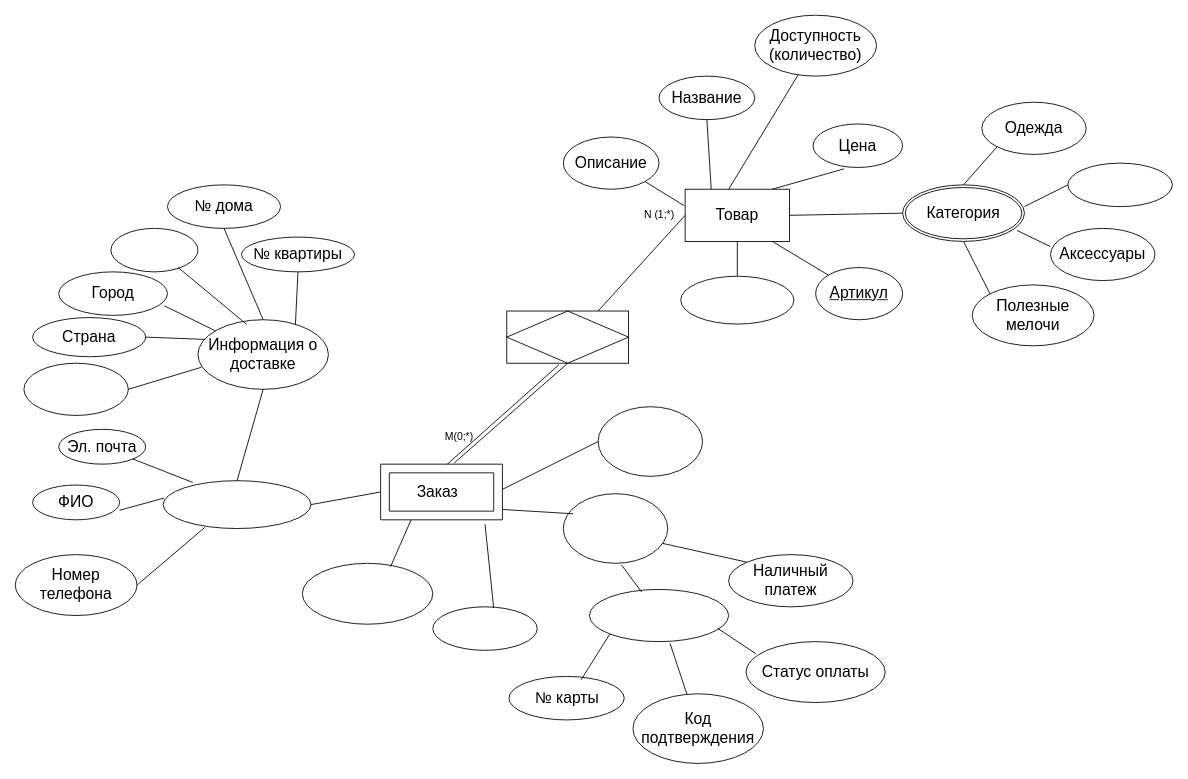
Some shapes in this 1188 by 779 pixel diagram are drawn without their labels. The centre of each missing label's shape, as x and y in pixels:
"Амуниция" belongs at point 1119,184.
"Безналичный платеж" belongs at point 659,615.
"Данные пользователя" belongs at point 236,504.
"Индекс" belongs at point 75,388.
"Количество" belongs at point 650,441.
"Номер заказа" belongs at point 367,593.
"содержит" belongs at point 567,336.
"Способ оплаты" belongs at point 615,528.
"Сумма" belongs at point 484,628.
"Улица" belongs at point 154,250.
"Фото" belongs at point 737,299.
